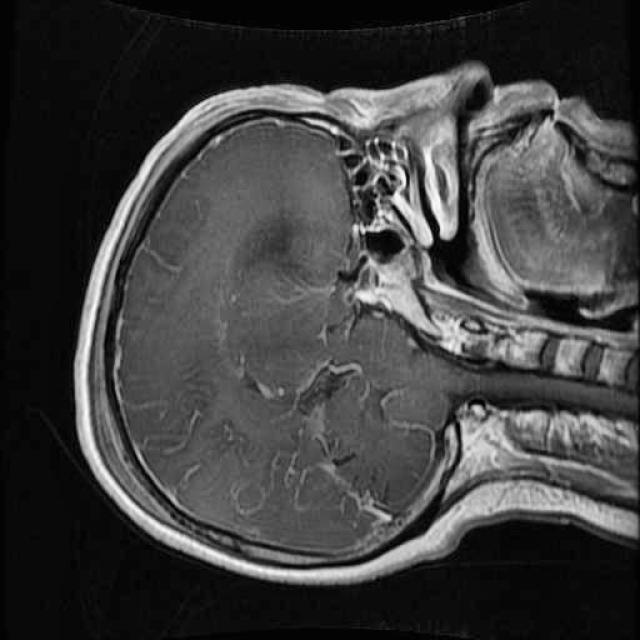Non-Tumor: (218, 204, 355, 304)
